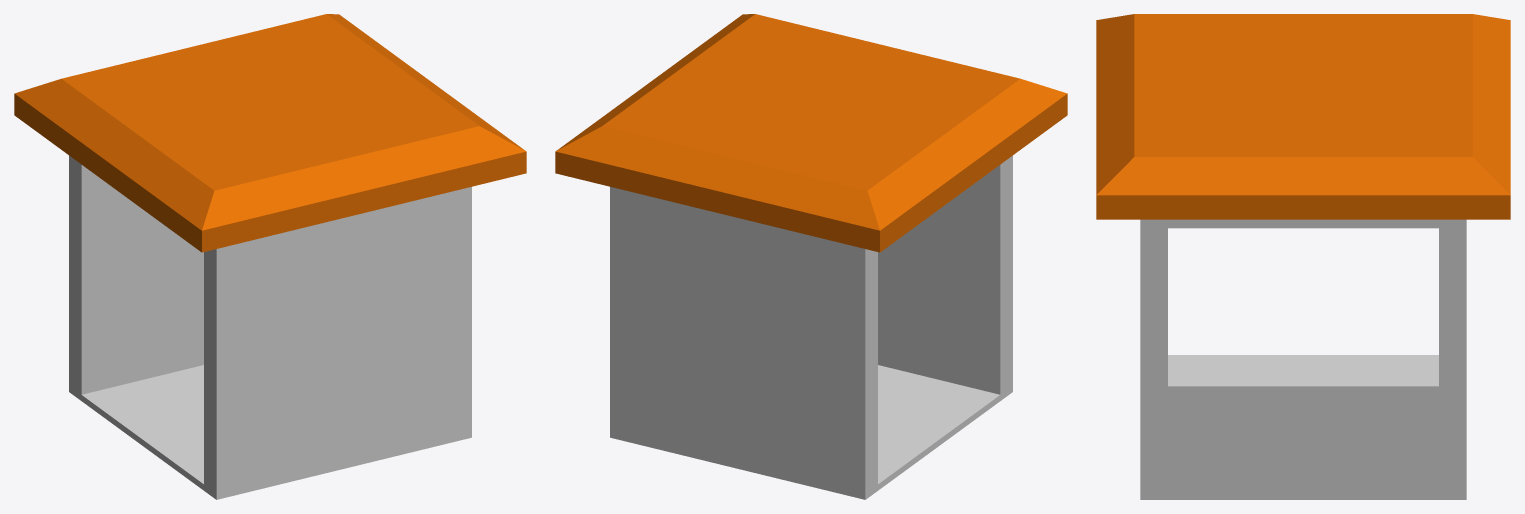
Rendered from store_orange_GLB.glb.
3 views of the same model, side by side, from view 1: azimuth 30°, elevation 25°; view 2: azimuth 150°, elevation 25°; view 3: azimuth 270°, elevation 25° (orthographic). The views are drawn at different scales.
Parts seen in each view (by area): view 1: Store; view 2: Store; view 3: Store.
Part boxes in pixels (x1,y1,x2,y2): Store: (14,14,526,499); Store: (555,14,1067,499); Store: (1096,14,1510,499).
Size of the model in its own units: 2.54 by 2.34 by 2.54.
